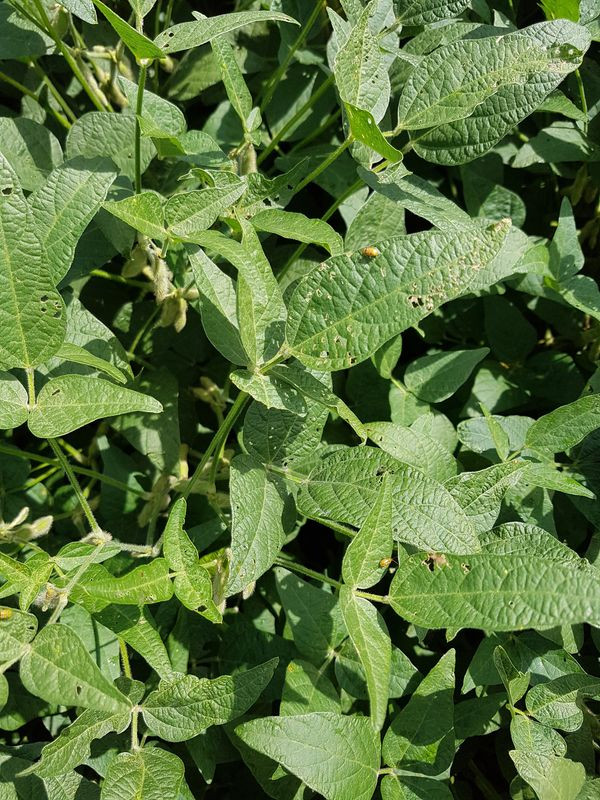Diabrotica_speciosa: (358, 242, 384, 264), (376, 554, 396, 571)
